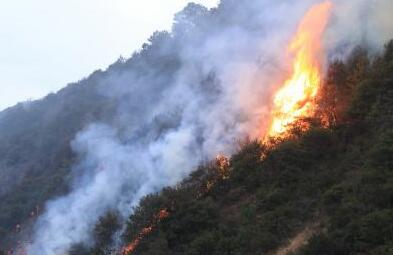fire: (253, 0, 332, 150), (120, 208, 166, 253), (201, 151, 229, 188)
smoke: (104, 18, 254, 191), (19, 87, 131, 252), (219, 1, 392, 89)
